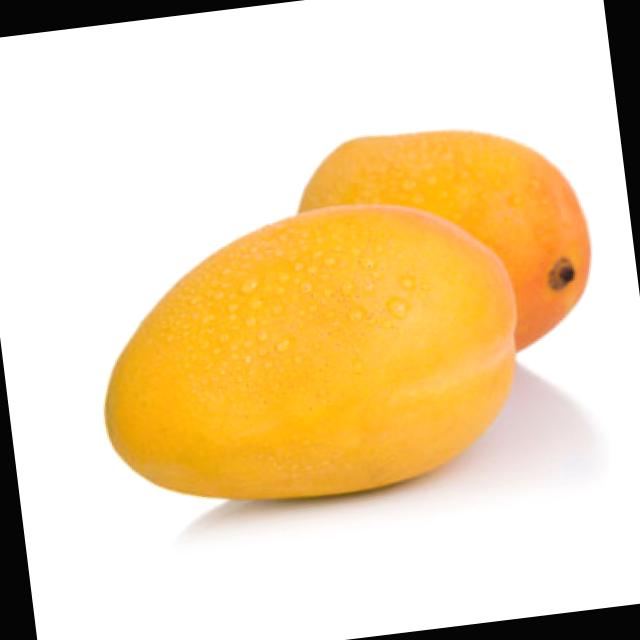mango: (69, 184, 549, 540), (266, 101, 598, 368)
